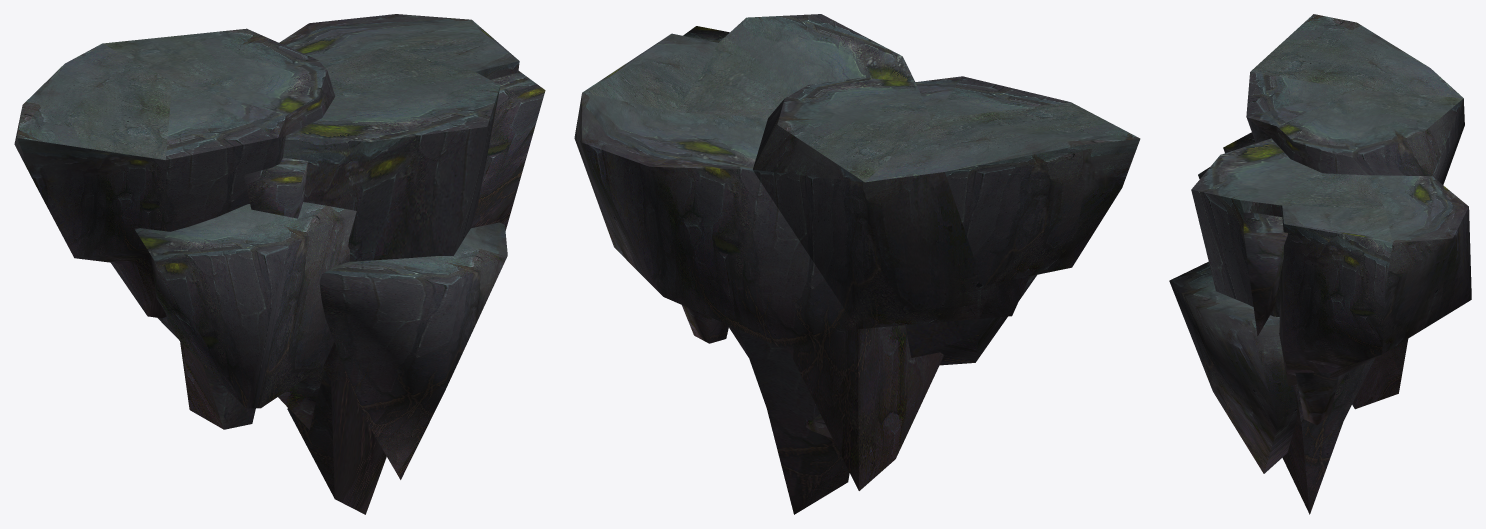
The model's file is yw_museyulin_fengbianshi01.FBX.
The picture shows the model from 3 angles, left to right: view 1: azimuth 30°, elevation 25°; view 2: azimuth 150°, elevation 25°; view 3: azimuth 270°, elevation 25°; orthographic projection. The views are drawn at different scales.
Parts seen in each view (by area): view 1: yw_museyulin_fengbianshi01; view 2: yw_museyulin_fengbianshi01; view 3: yw_museyulin_fengbianshi01.
Boxes of the visible parts, bbox=[...] form: yw_museyulin_fengbianshi01: bbox=[14, 14, 545, 514]; yw_museyulin_fengbianshi01: bbox=[574, 14, 1140, 514]; yw_museyulin_fengbianshi01: bbox=[1169, 14, 1471, 514].
Size of the model in its own units: 2063 by 1774 by 1314.
